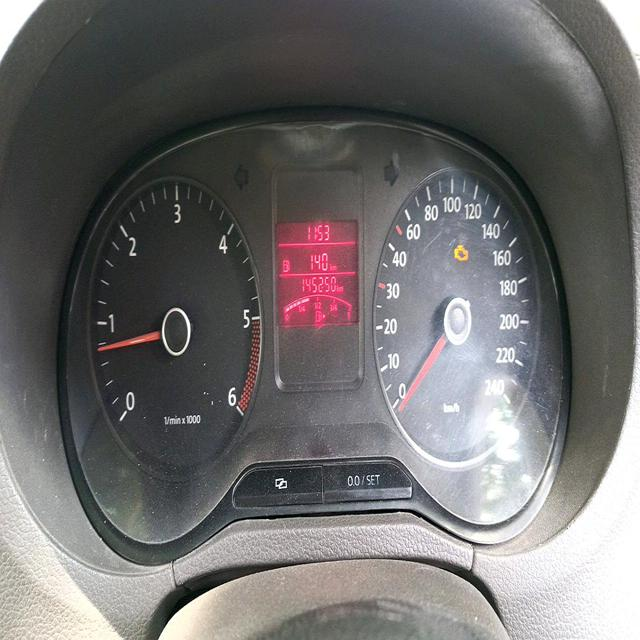odometer: (299, 271, 336, 297)
